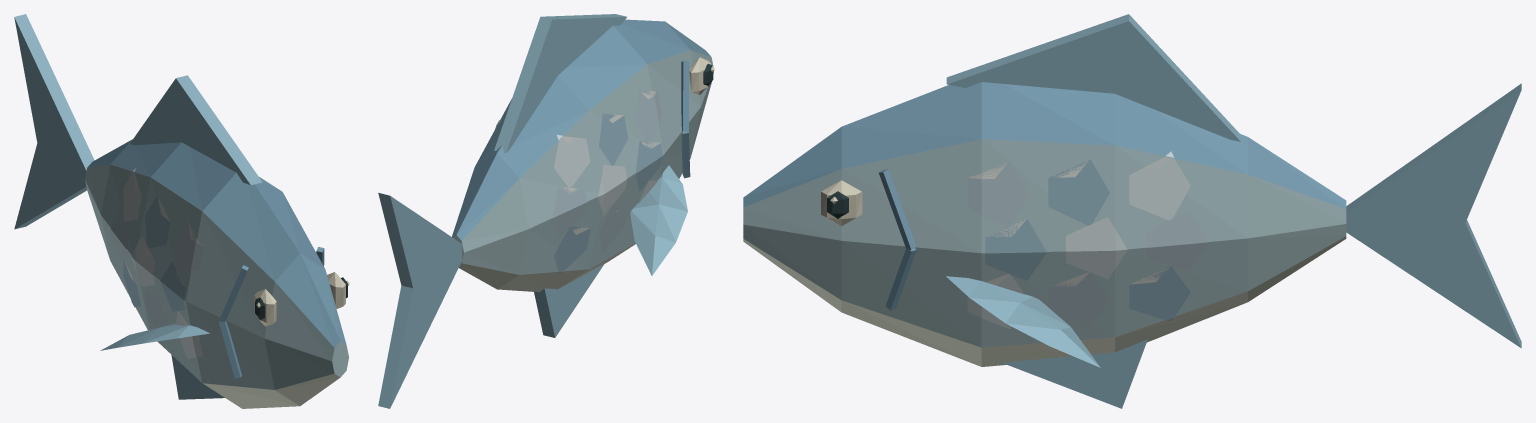
Rendered from fish_icescale.glb.
3 renders of one model, left to right at view 1: azimuth 30°, elevation 25°; view 2: azimuth 150°, elevation 25°; view 3: azimuth 270°, elevation 25°, orthographic. The views are drawn at different scales.
Parts seen in each view (by area): view 1: fish; view 2: fish; view 3: fish.
Boxes of the visible parts, x1,y1,x2,y2 form: fish: (14,14,349,408); fish: (378,14,714,408); fish: (743,14,1521,408).
Size of the model in its own units: 0.2285 by 0.3603 by 0.6549.
